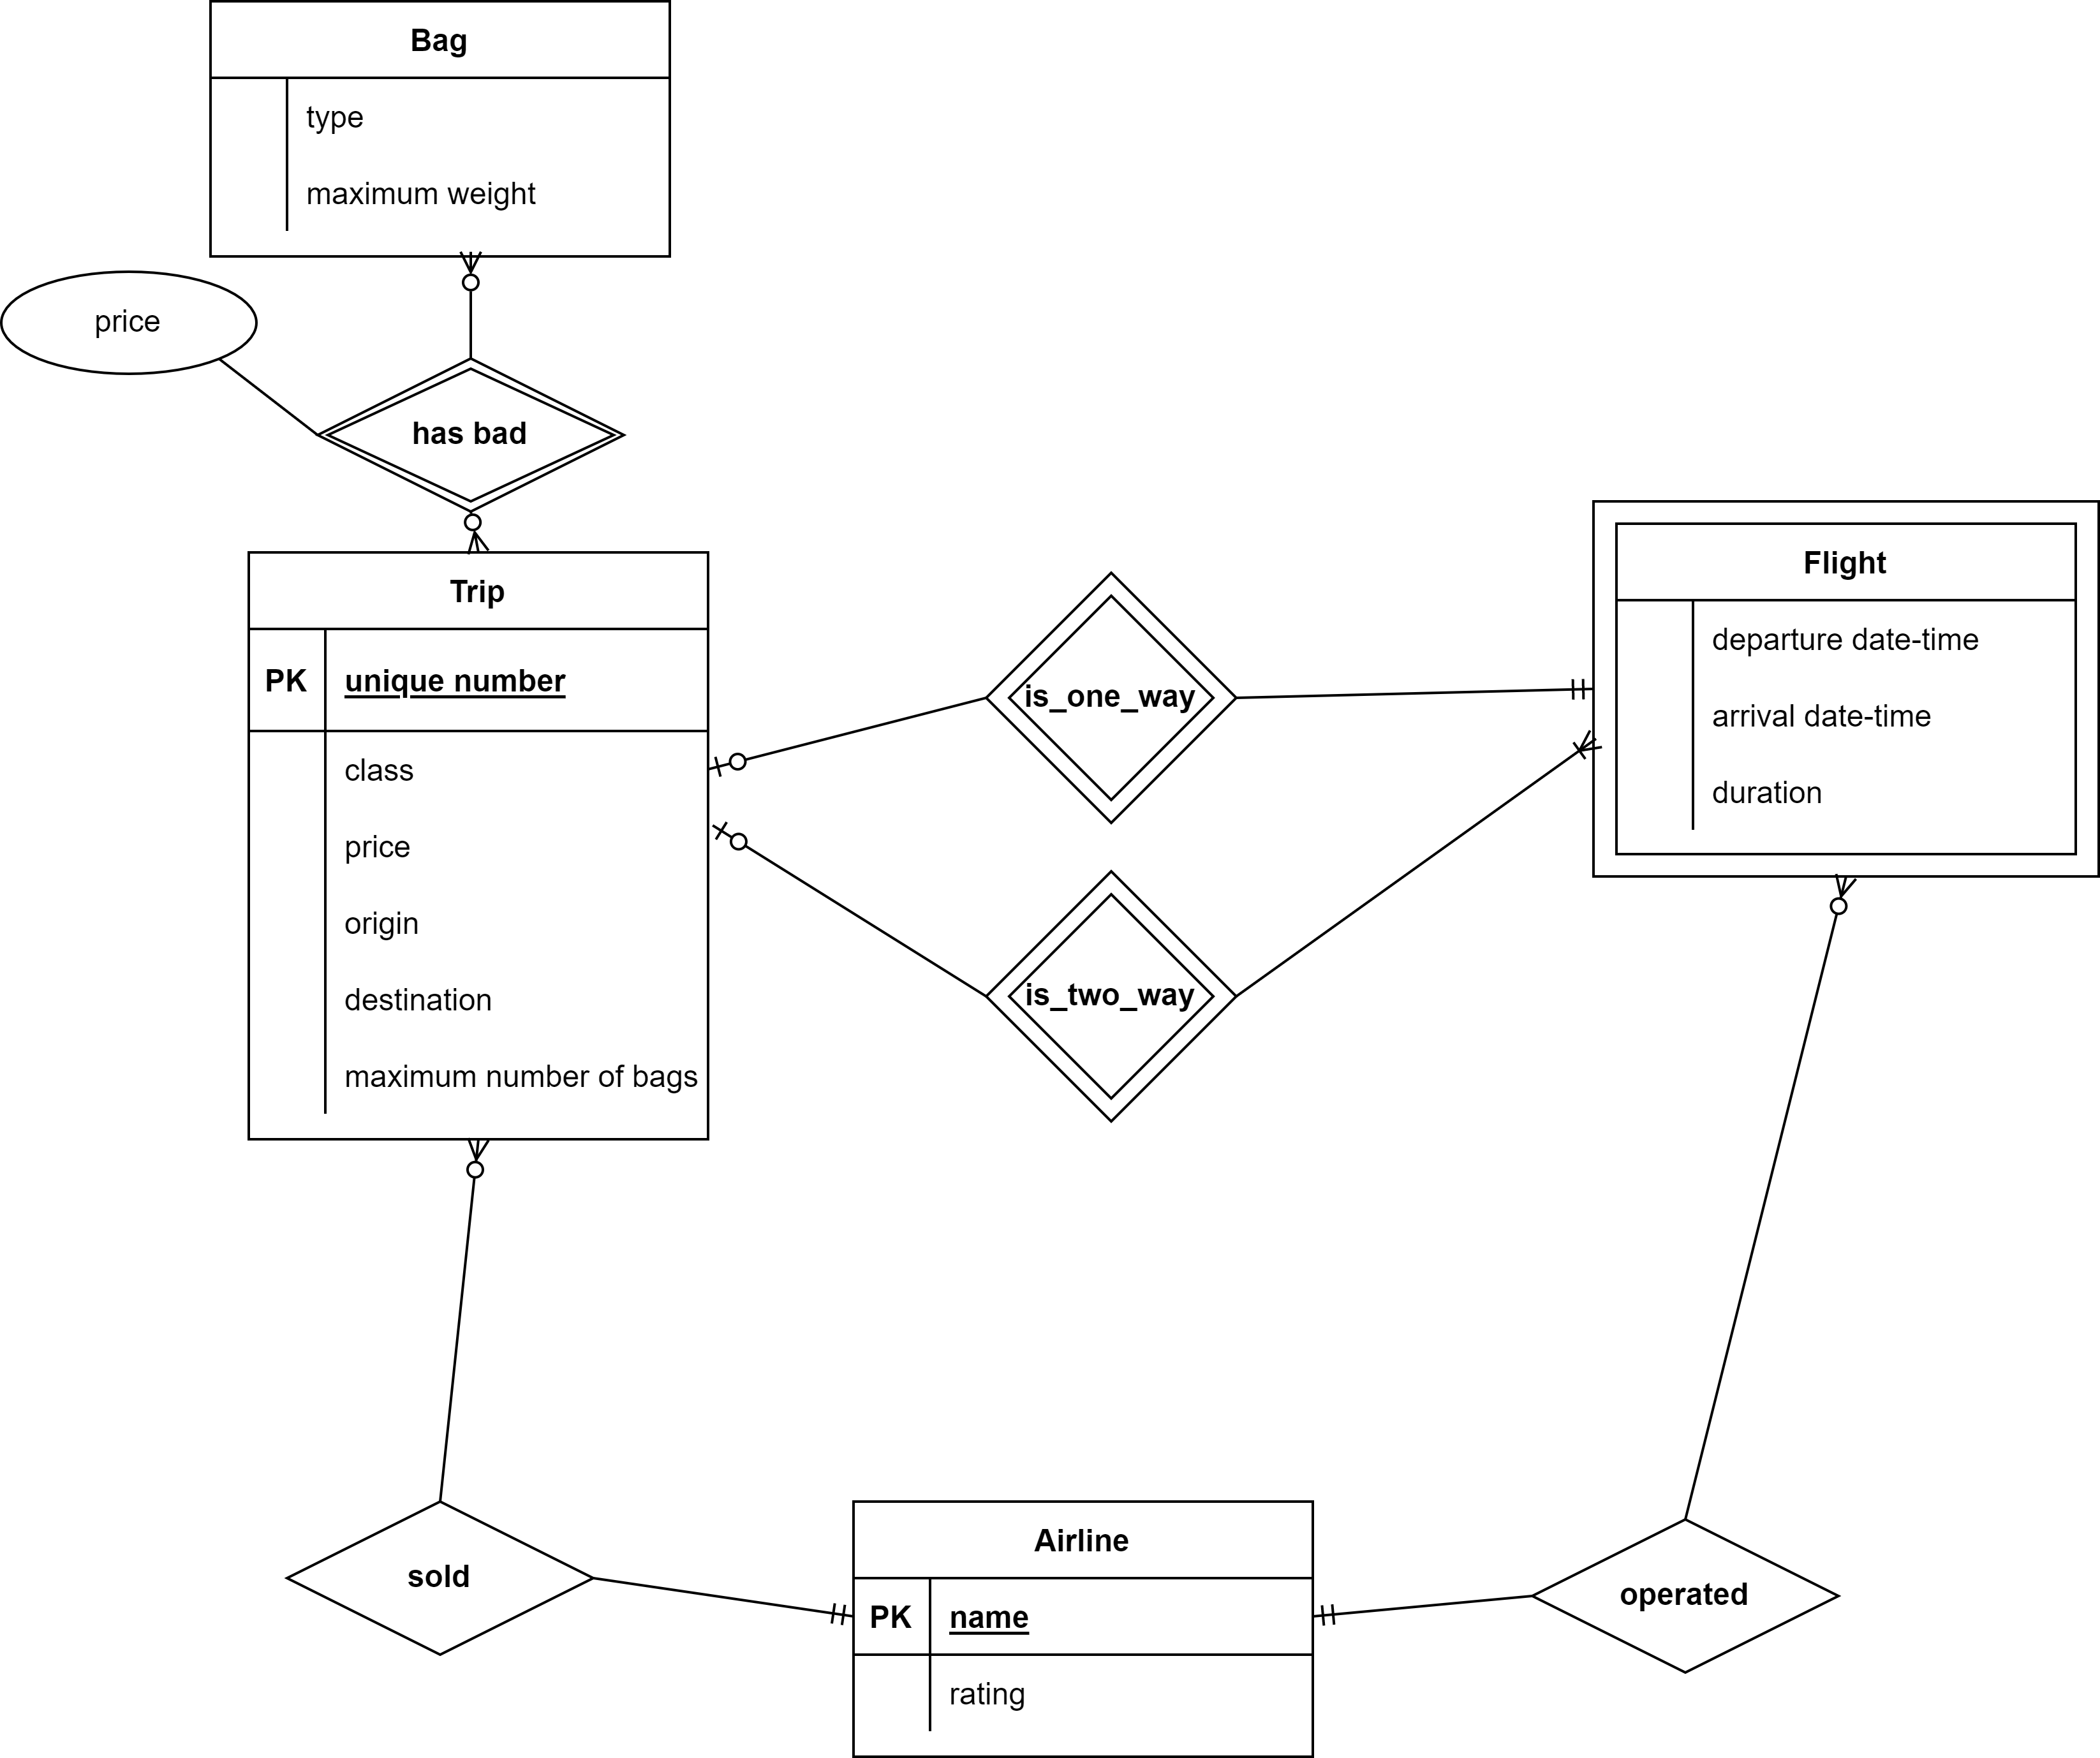entity: (248, 553, 706, 1141), (209, 0, 670, 256)
ident_rel: (989, 862, 1235, 1125), (982, 567, 1231, 825), (312, 361, 624, 509)
many: (1561, 717, 1601, 780), (453, 504, 504, 553), (1819, 874, 1875, 916), (452, 246, 494, 300), (455, 1135, 504, 1181)
one: (1308, 1591, 1357, 1643), (710, 818, 766, 862), (809, 1585, 849, 1639), (705, 739, 759, 780), (1556, 668, 1591, 713)
rel: (1531, 1519, 1844, 1674), (284, 1507, 593, 1657)
rel_attr: (5, 270, 256, 373)
weak_entity: (1591, 495, 2100, 876)
